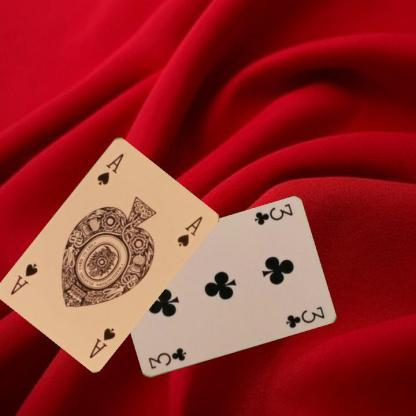3c: (251, 201, 294, 227), (146, 346, 188, 370)
As: (94, 150, 126, 186), (86, 324, 116, 360)
